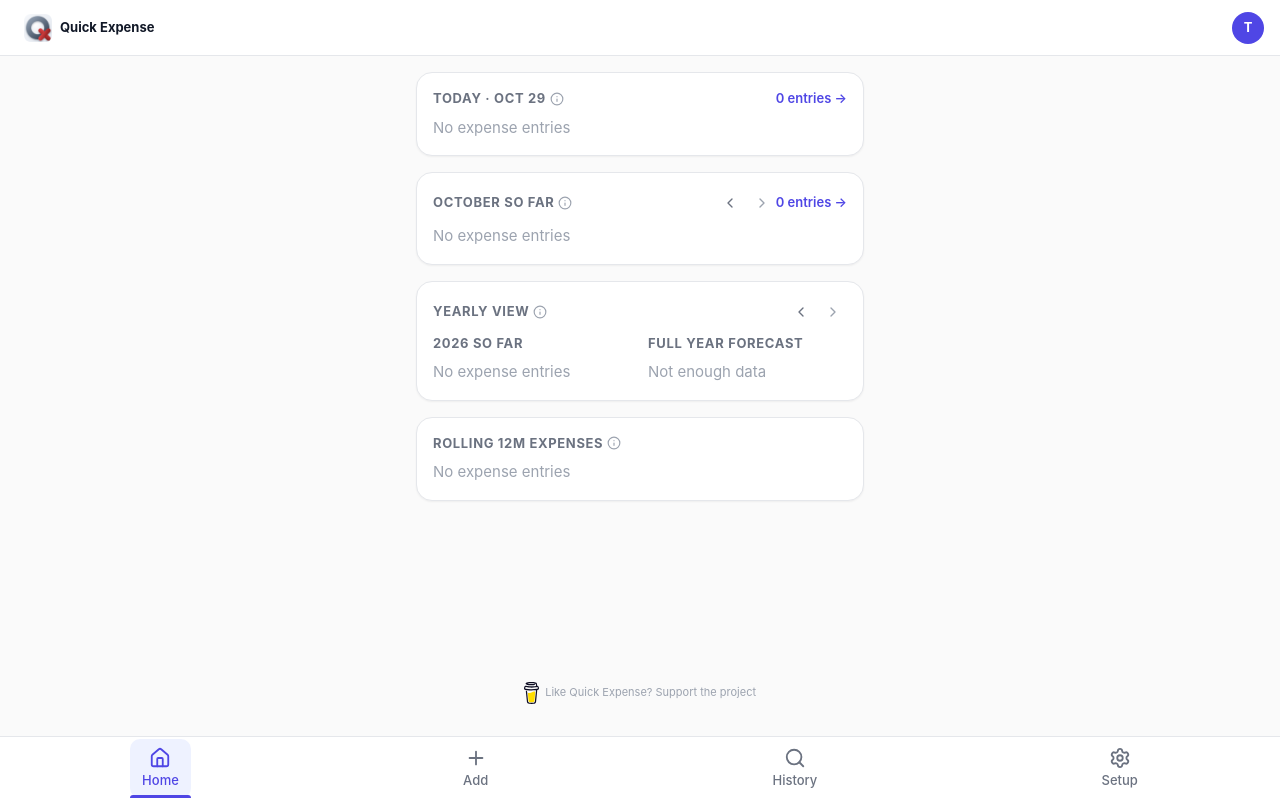
Test: HomePage — widget info tooltips › shows the exact copy for each widget
Click the button named "Show info about OCTOBER SO FAR". click: [565, 203]
box: 558,196 -> 572,210
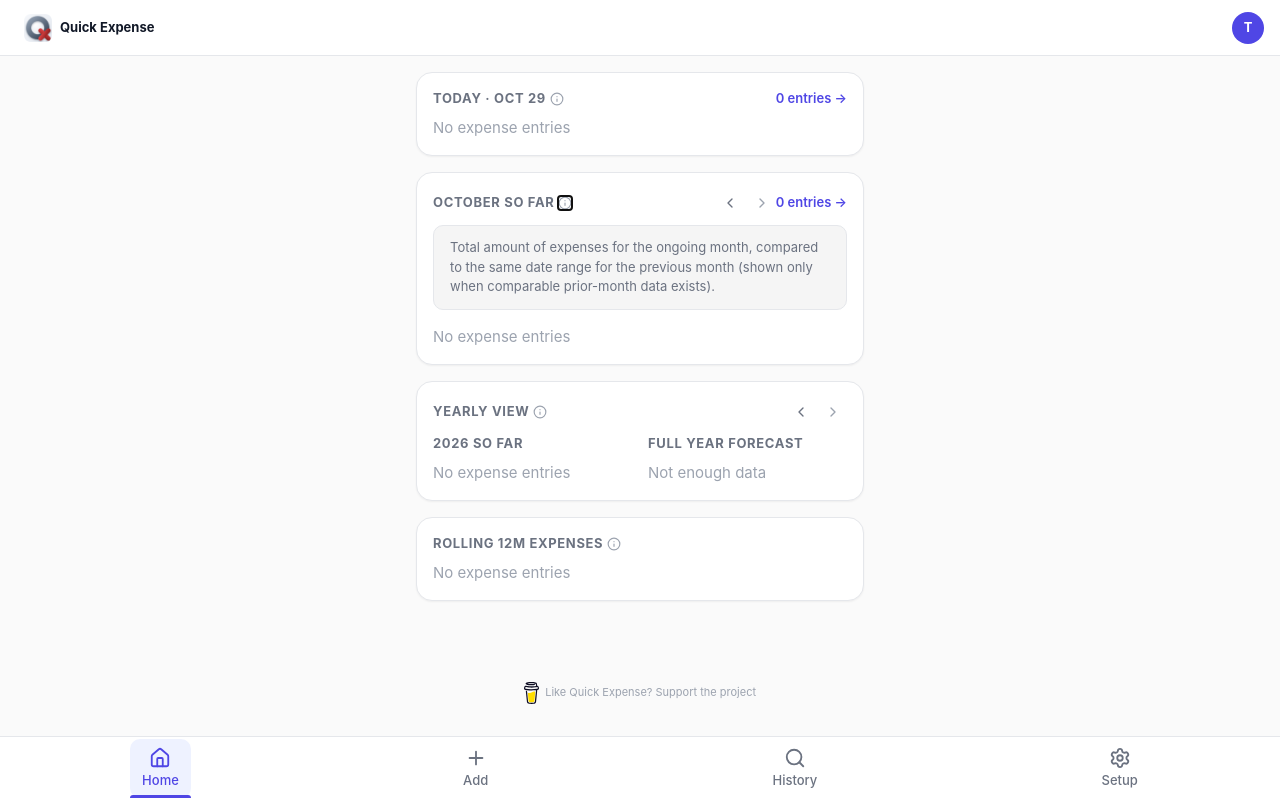
Result: the text "Total amount of expenses for the ongoing month, compared to the same date range for the previous month (shown only when " is shown at 450,239 -> 818,294
Click the button named "Show info about YEARLY VIEW". click: [540, 412]
box: 533,405 -> 547,419
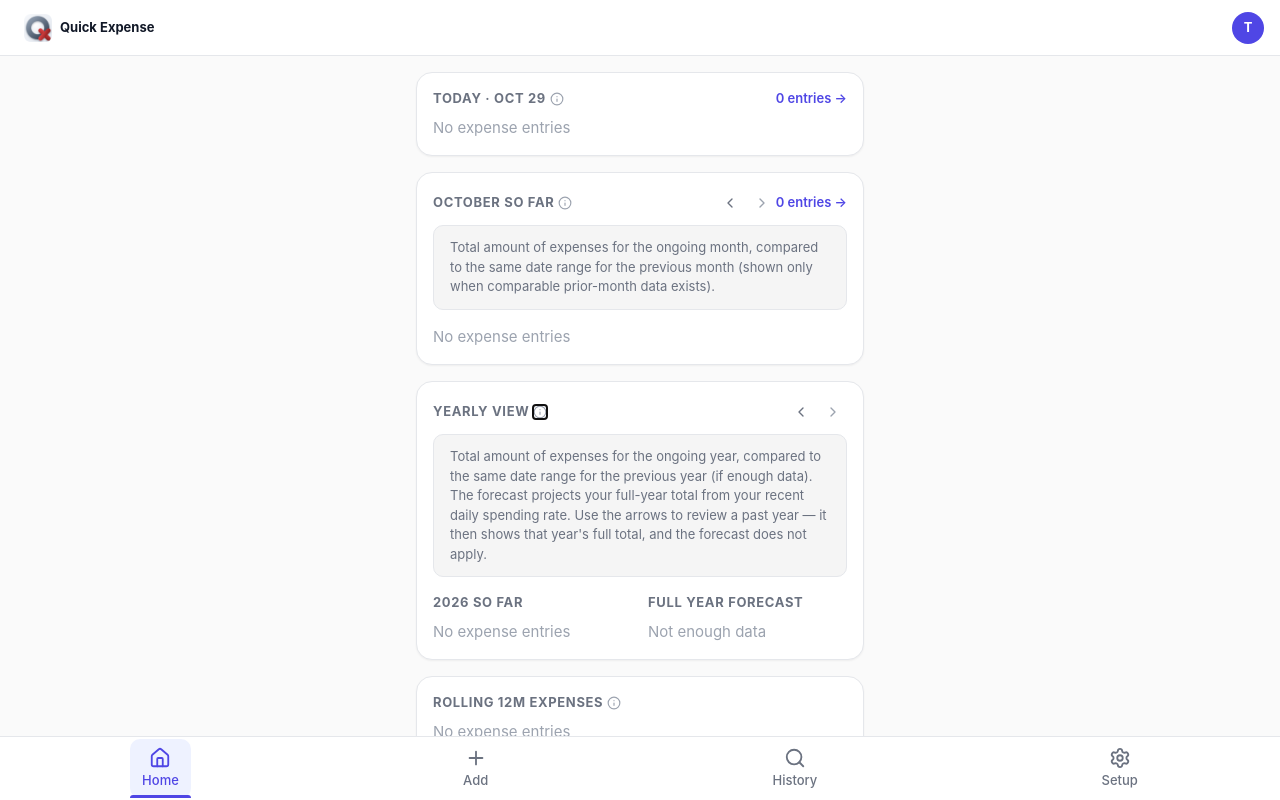
Result: the text "Total amount of expenses for the ongoing year, compared to the same date range for the previous year (if enough data). T" is shown at 450,448 -> 827,562
Click the button named "Show info about ROLLING 12M EXPENSES". click: [614, 703]
box: 607,696 -> 621,710
(page scrolled)
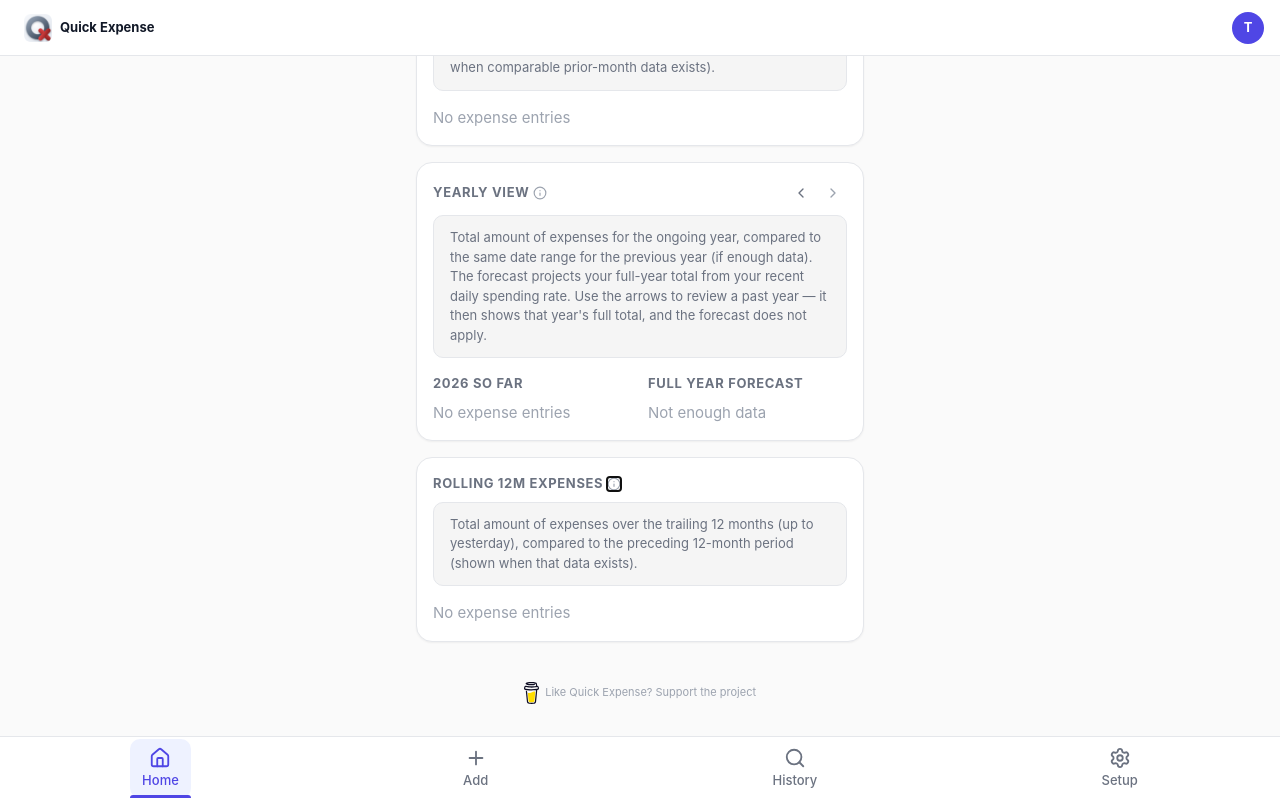
Result: the text "Total amount of expenses over the trailing 12 months (up to yesterday), compared to the preceding 12-month period (shown" is shown at 450,516 -> 813,570
